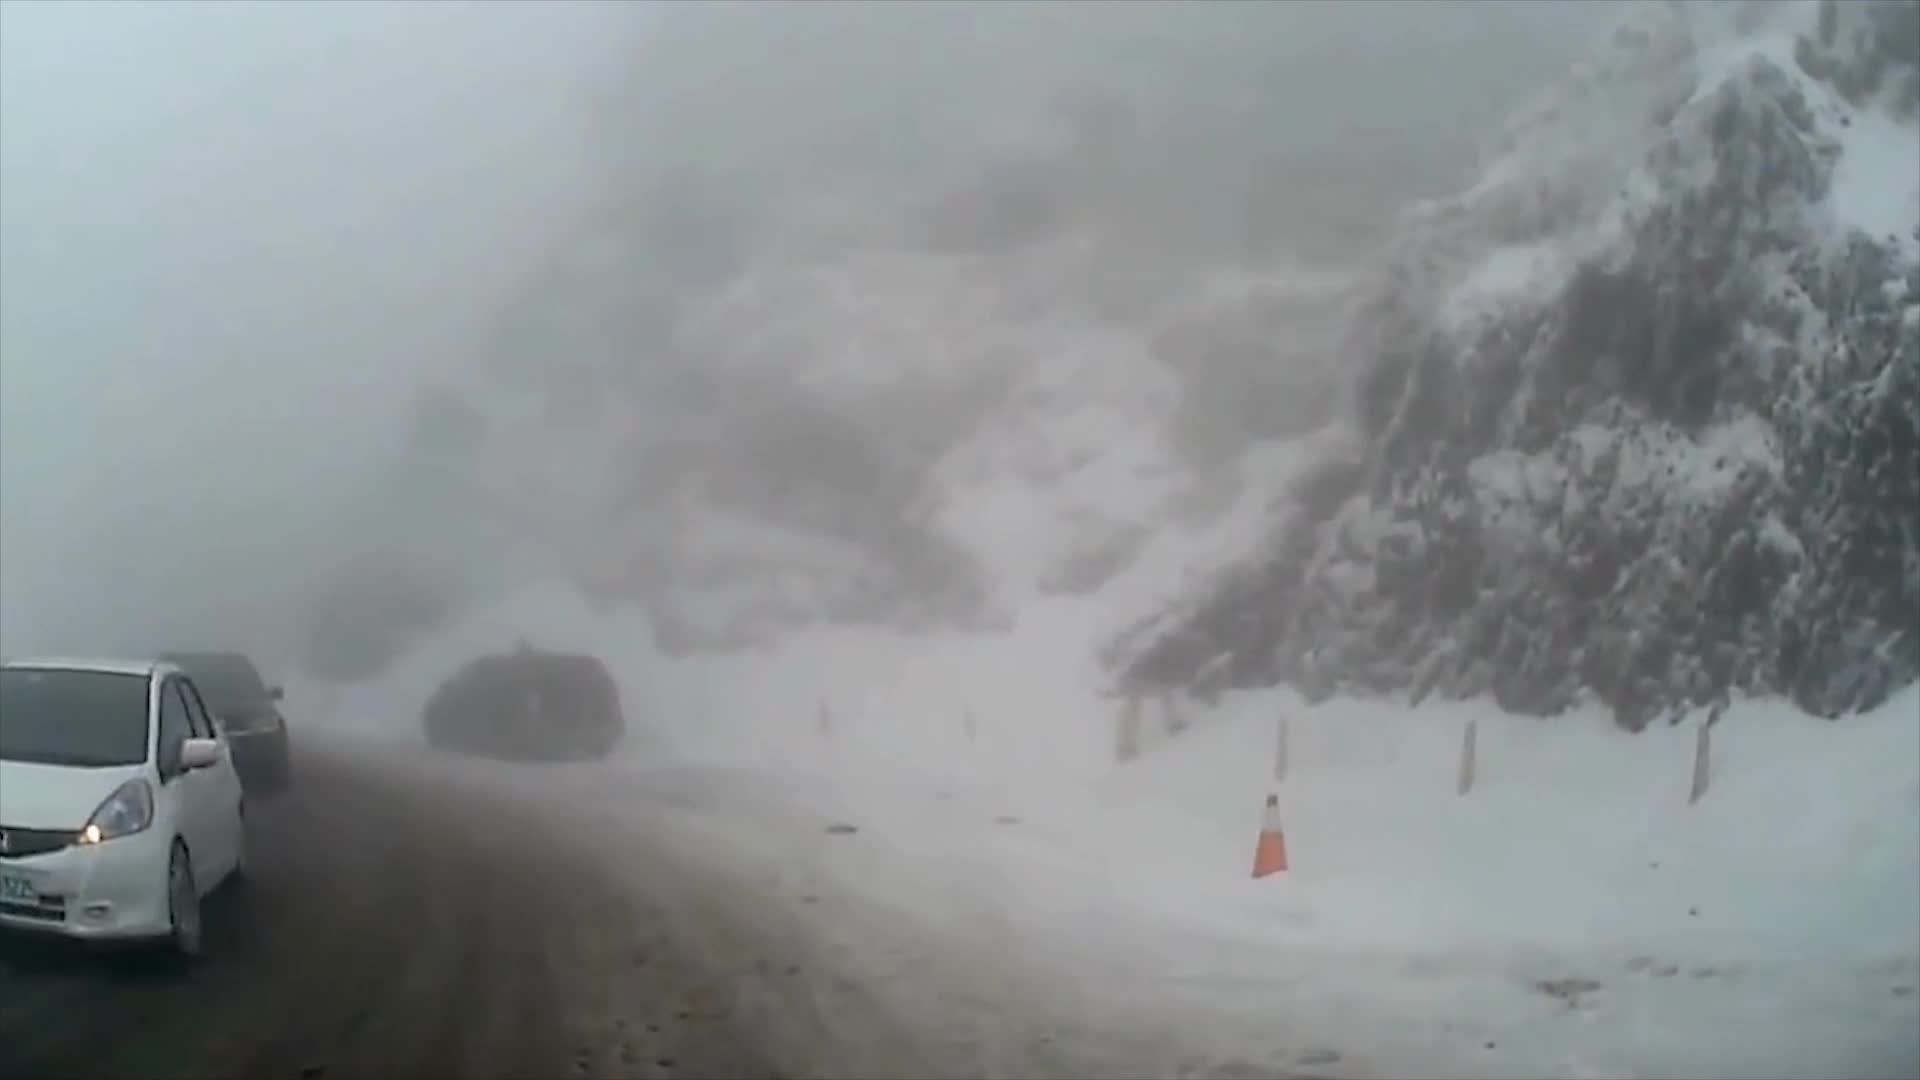vehicle: (0, 655, 255, 968), (119, 645, 290, 804), (425, 651, 625, 764)
